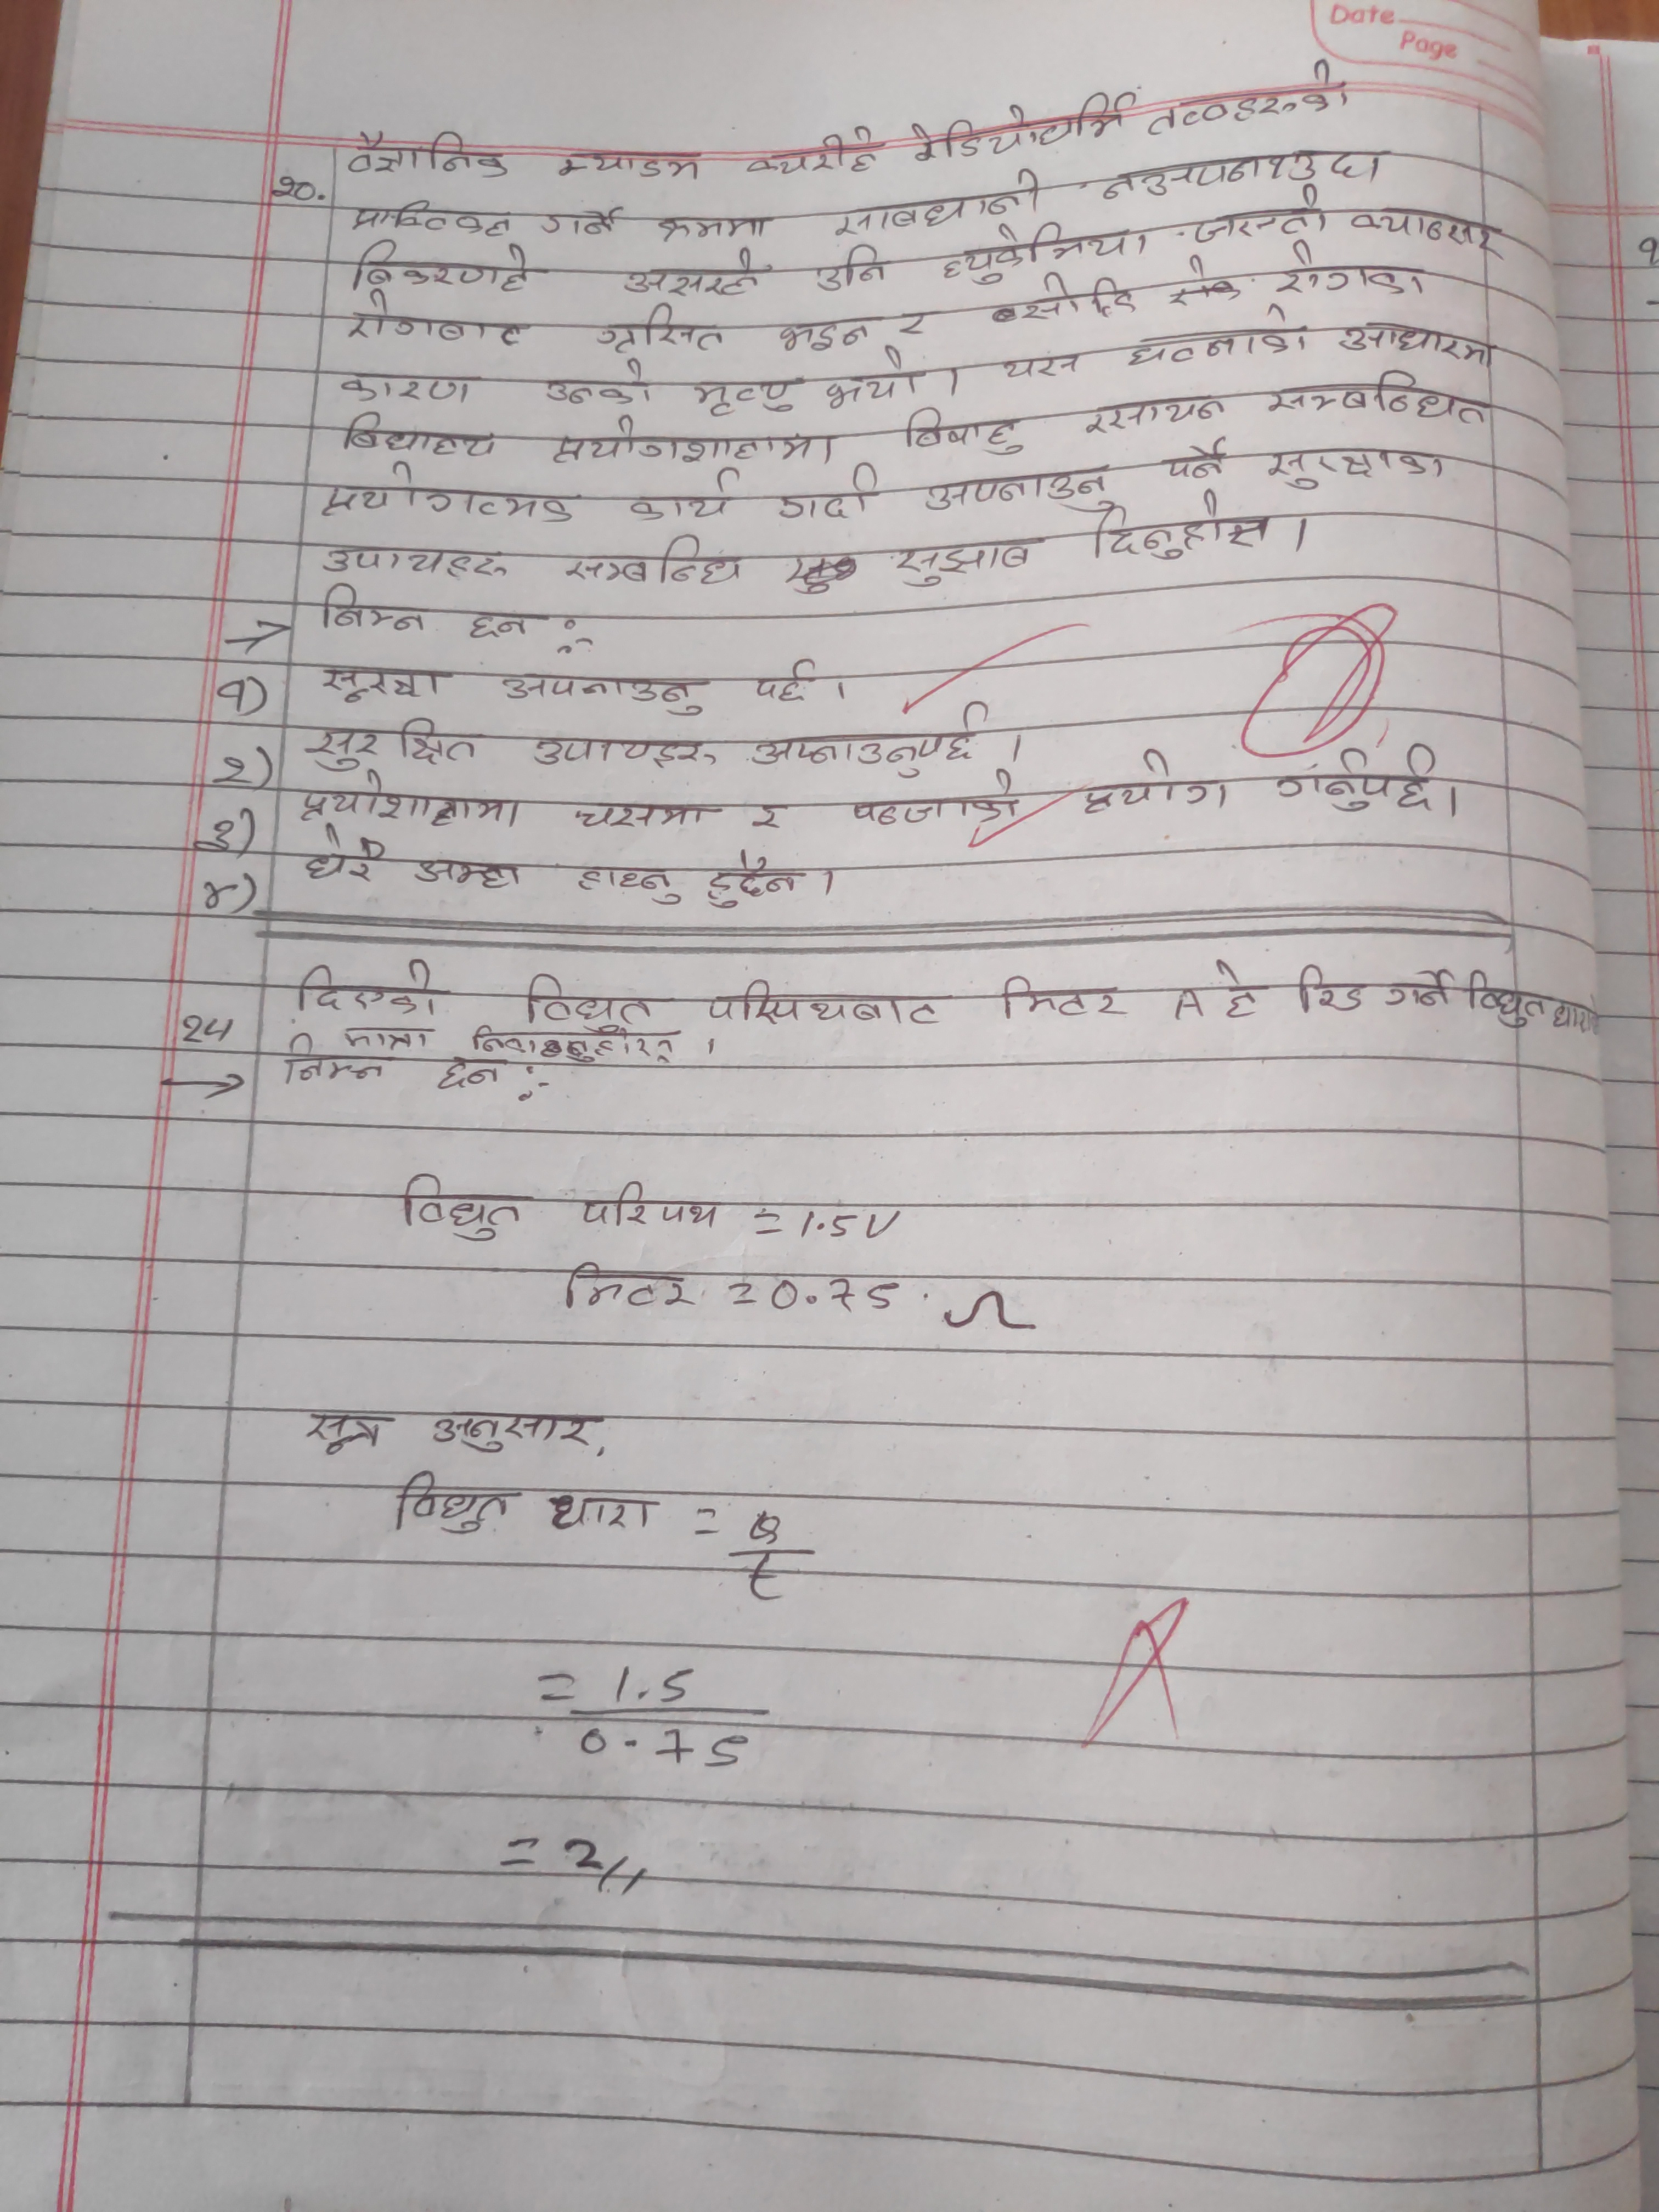text: (321, 462, 579, 531), (1143, 54, 1363, 134), (1263, 361, 1493, 432), (748, 711, 990, 777), (903, 89, 1136, 155), (551, 413, 843, 463), (831, 164, 1044, 232), (1101, 143, 1384, 193), (300, 772, 528, 831), (706, 979, 955, 1031), (1274, 744, 1443, 819), (943, 223, 1155, 280), (336, 293, 526, 352), (343, 235, 530, 294), (1107, 495, 1277, 557), (301, 712, 484, 770), (500, 672, 714, 721), (1274, 244, 1436, 308), (464, 1019, 683, 1066), (924, 465, 1112, 519), (1086, 747, 1230, 817), (565, 535, 749, 589), (1349, 200, 1511, 261), (1262, 441, 1450, 493), (528, 730, 727, 779), (1337, 314, 1504, 371), (399, 1172, 535, 1242), (389, 1468, 523, 1538), (343, 127, 514, 181), (850, 775, 1021, 829), (321, 535, 516, 582), (429, 1411, 613, 1460), (889, 533, 1042, 590), (293, 960, 441, 1019), (579, 1179, 725, 1238), (340, 411, 498, 465), (523, 974, 660, 1035), (1124, 324, 1317, 366), (1194, 186, 1333, 242), (619, 251, 767, 301), (594, 305, 730, 359), (561, 1261, 697, 1315), (347, 197, 519, 239), (744, 122, 880, 174), (1073, 392, 1230, 437), (312, 577, 430, 636), (903, 404, 1028, 460), (626, 463, 741, 523), (281, 1033, 383, 1099), (772, 463, 882, 524), (823, 343, 924, 408), (538, 357, 659, 411), (551, 145, 711, 185), (1000, 972, 1122, 1024), (1019, 270, 1143, 320), (335, 368, 488, 408), (575, 798, 721, 840), (706, 845, 800, 909), (547, 1489, 660, 1538), (1467, 965, 1546, 1035), (301, 822, 390, 883), (301, 1402, 399, 1456), (319, 665, 450, 705), (579, 860, 681, 911), (690, 376, 803, 421), (653, 204, 774, 246), (411, 853, 528, 895), (1290, 960, 1370, 1019), (775, 315, 878, 357), (816, 244, 890, 296), (1208, 958, 1265, 1024), (425, 1052, 507, 1097), (542, 202, 631, 240), (469, 603, 549, 644), (1384, 967, 1464, 1008), (1000, 348, 1086, 387), (342, 1019, 430, 1055), (1166, 437, 1234, 481), (756, 655, 816, 702), (749, 792, 788, 836), (892, 305, 934, 336)
